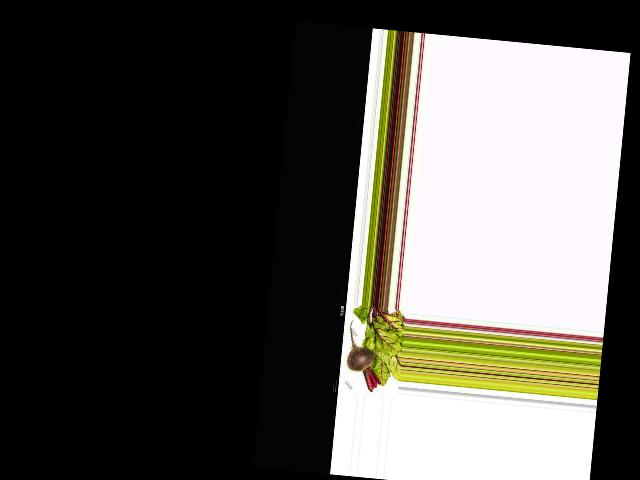beet: (343, 320, 386, 392)
